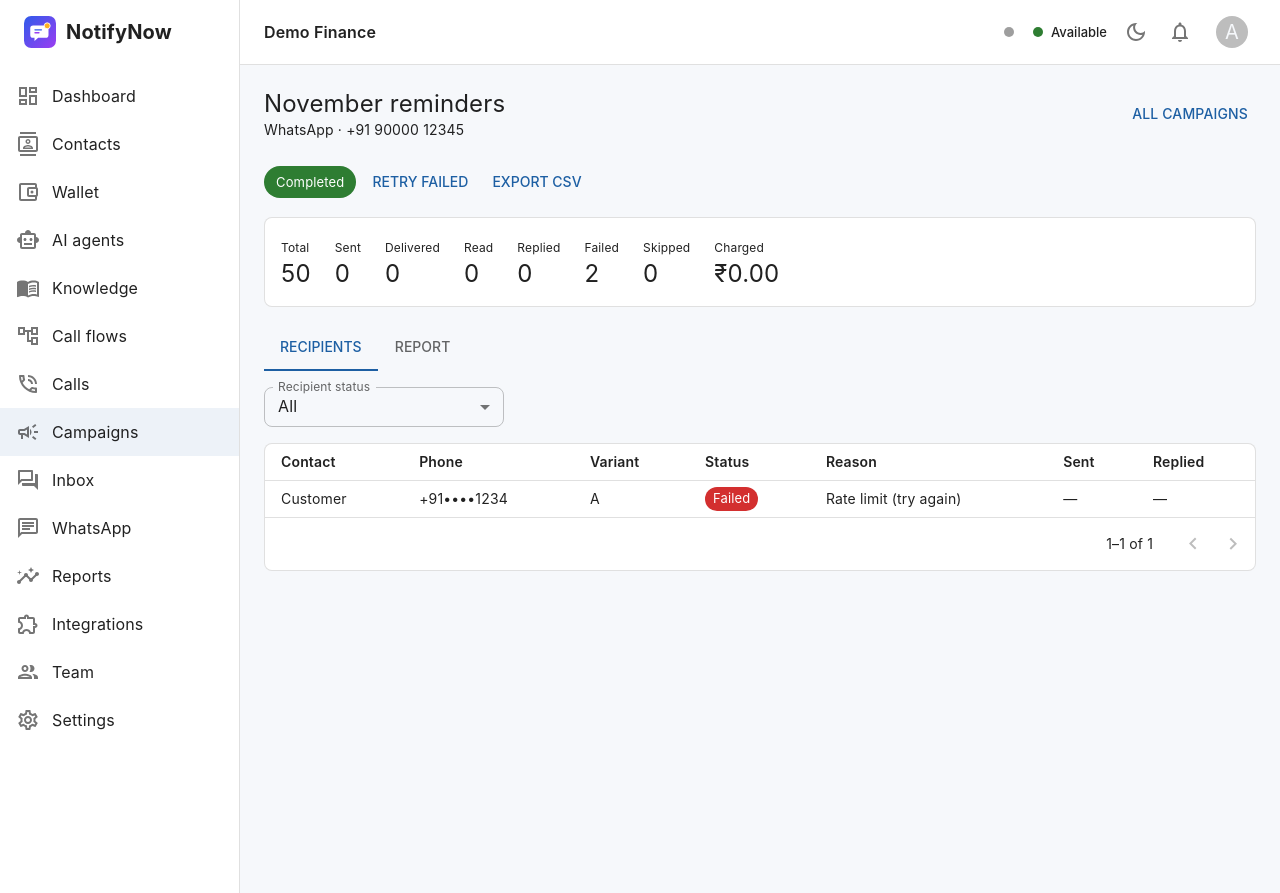
Test: WhatsApp campaign pages › shows masked recipients, status filters, report and retry result
expect the text "+91••••1234" is shown: met, box [403,480,574,517]
Click the button "Retry failed".
click(420, 182)  # box [364,164,476,200]
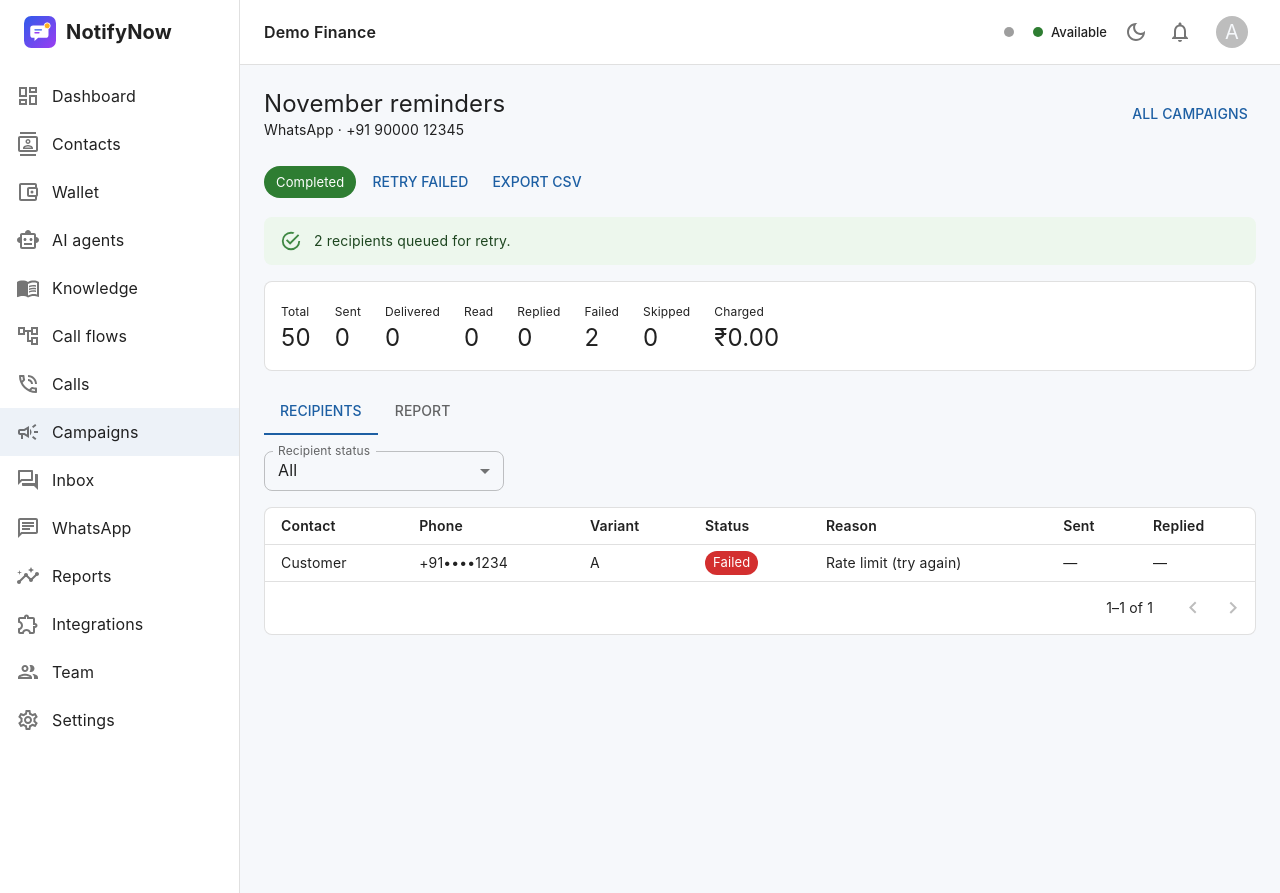
expect the text "2 recipients queued for retry." is shown: met, box [314,232,511,248]
Click the tab "Report".
click(423, 411)  # box [378,387,468,435]
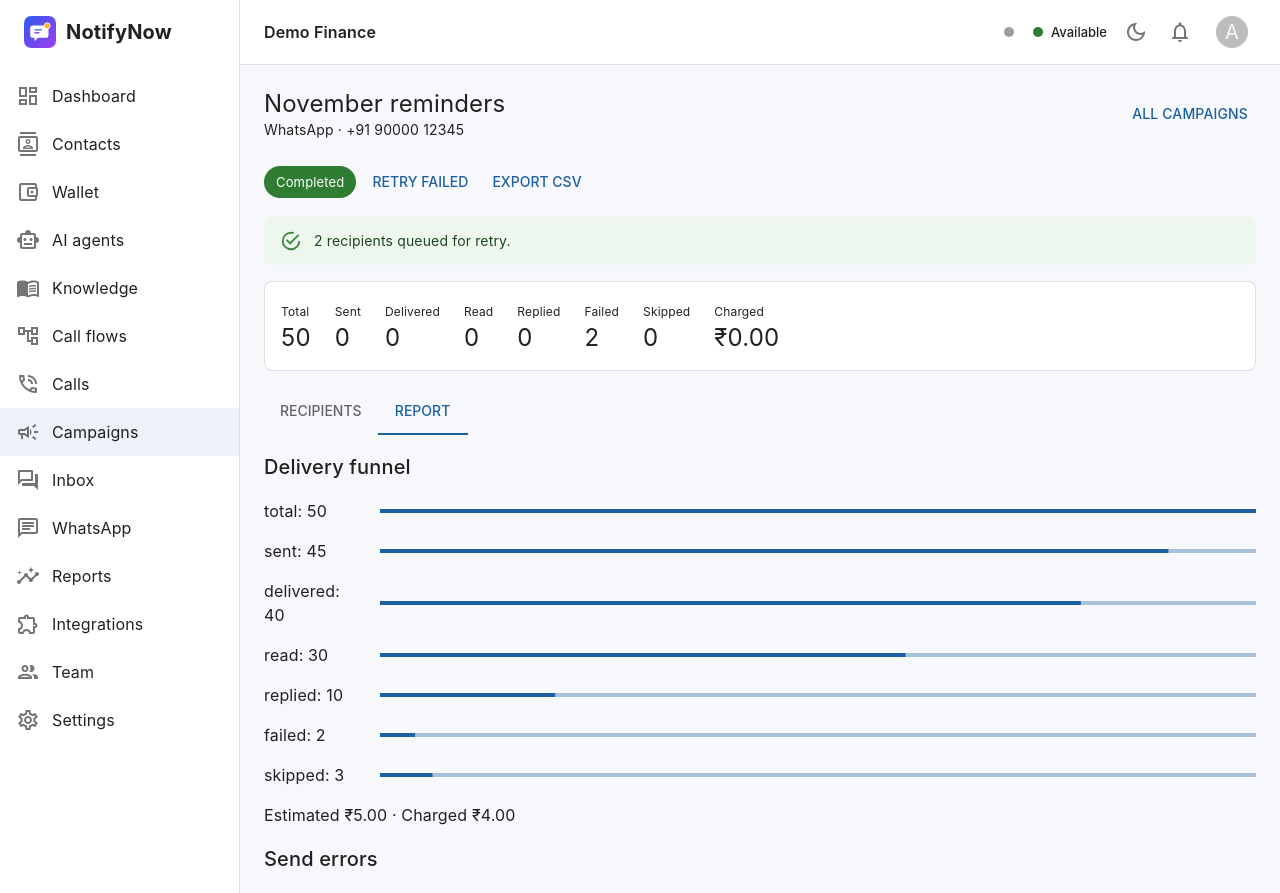
expect the heading "Delivery funnel" is shown: met, box [264,455,411,479]
